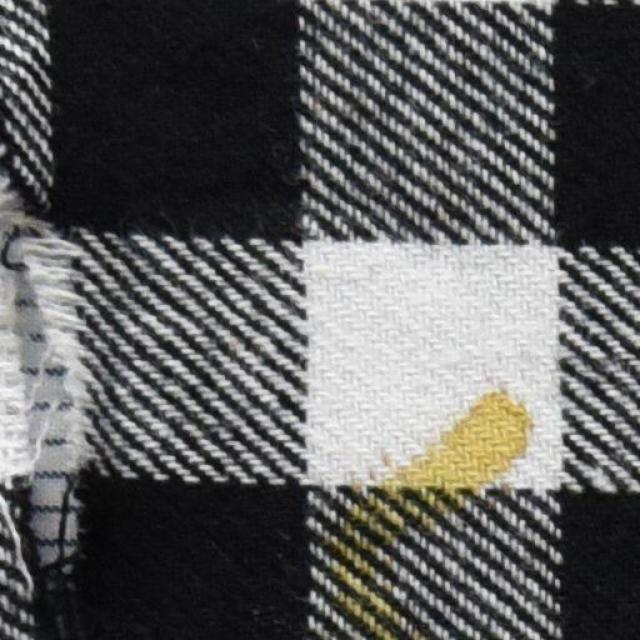stain: (319, 386, 539, 633)
